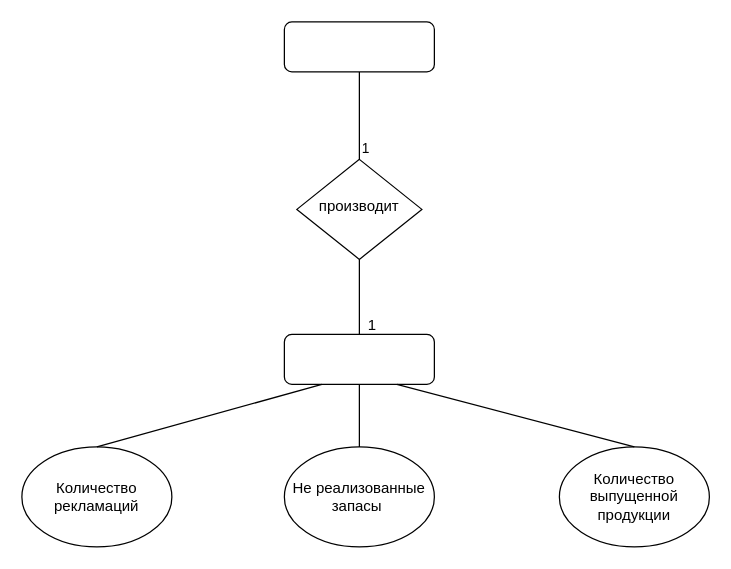
Image size: 731x569. Some labels were removed from this diagram. The centre of each missing label's shape, as x and y in pixels:
Компания: (358,46)
продукцию: (358,358)
